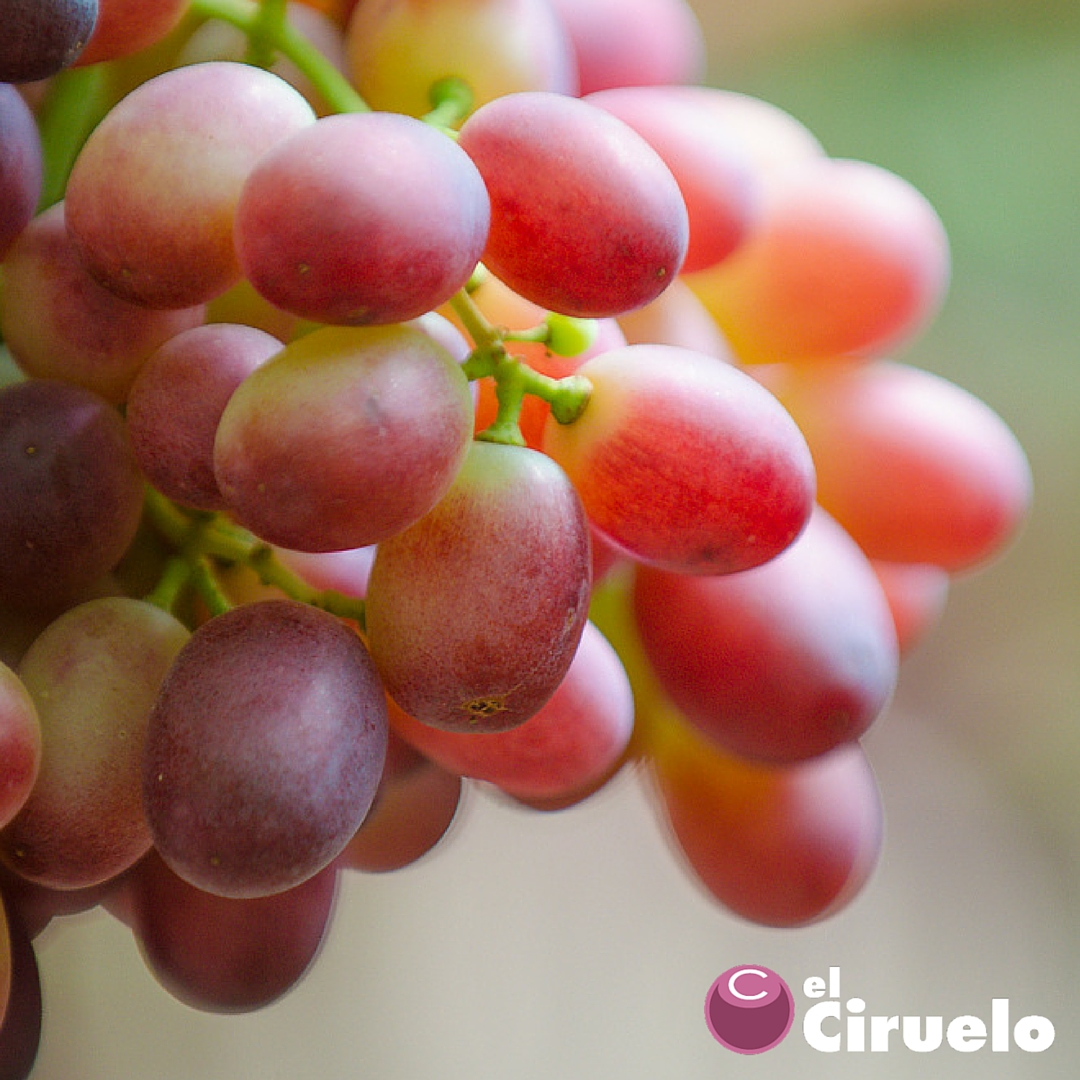Red Grapes: (55, 48, 832, 871)
